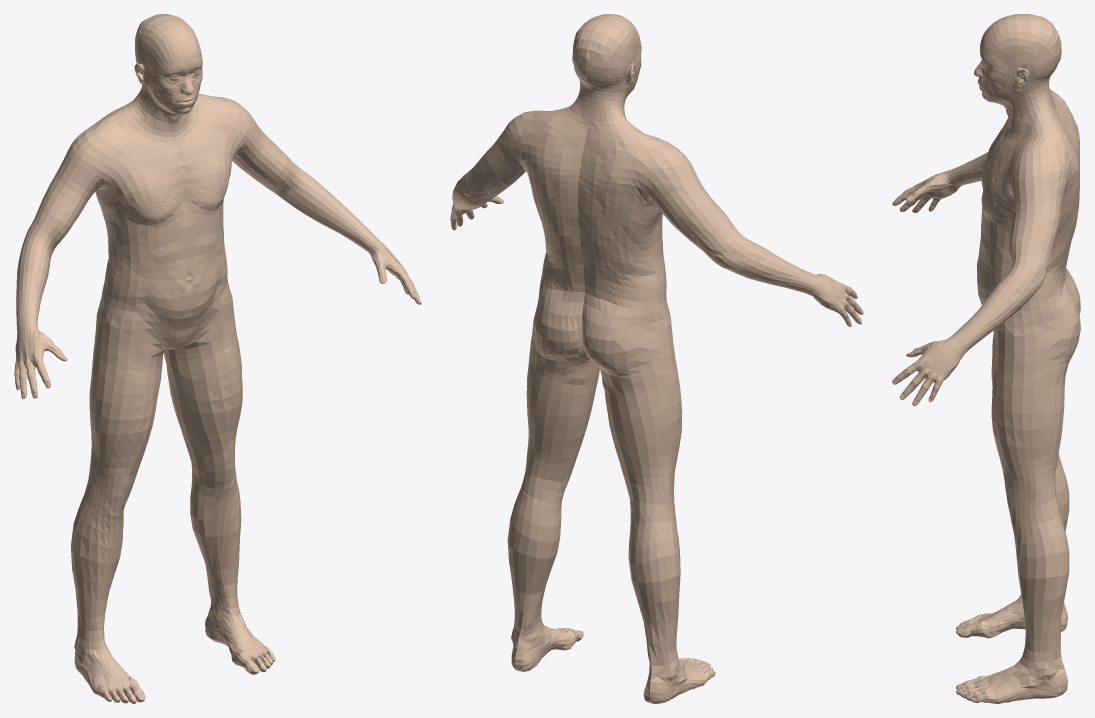
File: male-mature-heavy-strong.glb
The picture shows the model from 3 angles, left to right: view 1: azimuth 30°, elevation 25°; view 2: azimuth 150°, elevation 25°; view 3: azimuth 270°, elevation 25°; orthographic projection.
Parts seen in each view (by area): view 1: world; view 2: world; view 3: world.
Part boxes in pixels (x1,y1,x2,y2): world: [14, 14, 421, 703]; world: [450, 14, 863, 703]; world: [892, 14, 1080, 703].
Bounding box in the file's own units: 1.26 × 1.95 × 0.5159.
